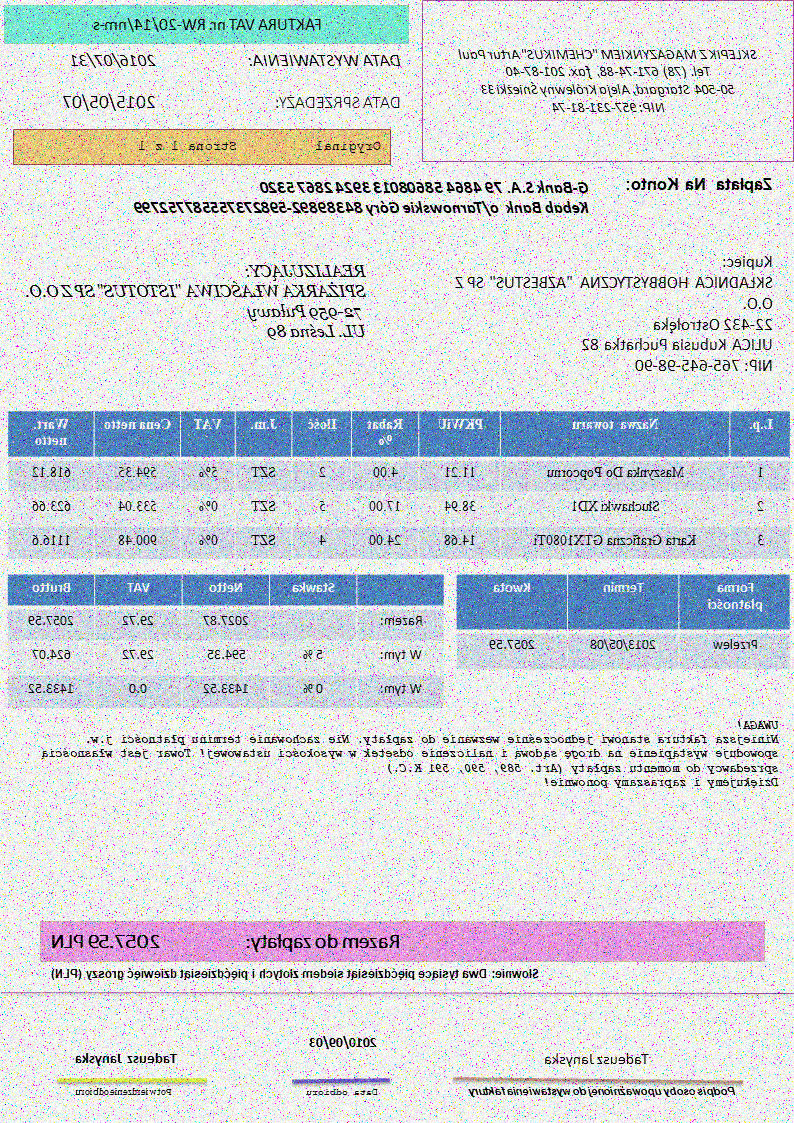Table: (6, 409, 792, 561), (7, 572, 446, 710), (455, 572, 792, 672)
TextBox: (36, 715, 781, 791), (452, 251, 777, 374), (22, 260, 371, 344), (455, 41, 763, 118), (131, 176, 593, 218), (49, 963, 543, 984), (47, 926, 404, 953), (91, 10, 326, 37), (465, 1079, 740, 1100), (134, 135, 384, 157), (246, 48, 404, 70), (273, 89, 404, 114), (625, 173, 775, 194), (59, 90, 160, 114), (71, 1047, 179, 1069), (542, 1048, 652, 1068), (69, 49, 160, 70), (73, 1085, 174, 1100), (307, 1031, 380, 1051), (304, 1084, 381, 1100)
